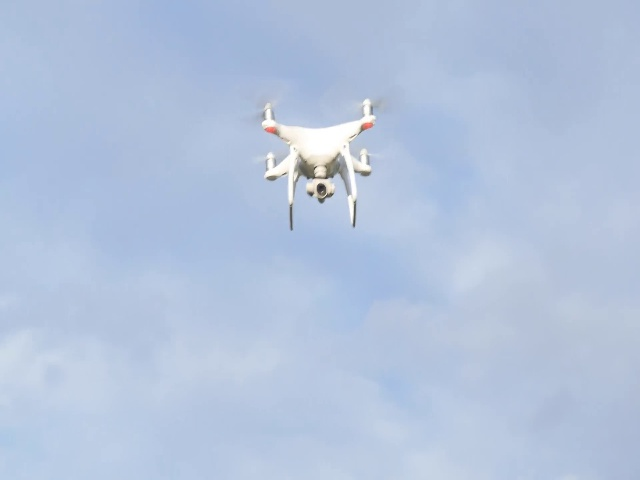drone: (243, 72, 403, 238)
